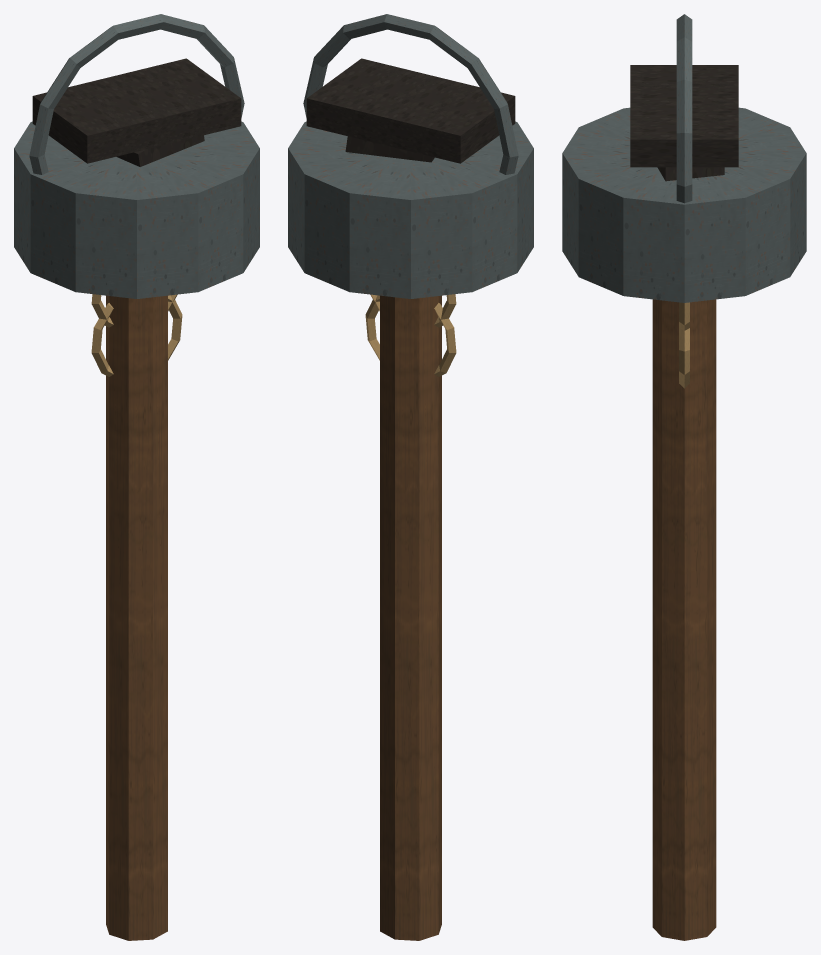
The model's file is en-021_torch_stand__unlit.obj.
3 renders of one model, left to right at view 1: azimuth 30°, elevation 25°; view 2: azimuth 150°, elevation 25°; view 3: azimuth 270°, elevation 25°, orthographic.
Visible parts, largest first — view 1: en-021_torch_stand__unlit; view 2: en-021_torch_stand__unlit; view 3: en-021_torch_stand__unlit.
Part boxes in pixels (left/top/right/bottom): en-021_torch_stand__unlit: left=14, top=14, right=259, bottom=940; en-021_torch_stand__unlit: left=288, top=14, right=533, bottom=940; en-021_torch_stand__unlit: left=562, top=14, right=806, bottom=940.
Size of the model in its own units: 0.364 by 1.47 by 0.36.
4 materials, 4 textured.
